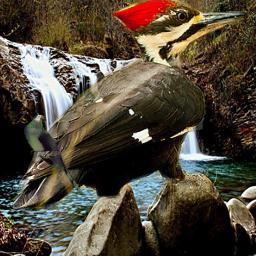Cuckoo: (24, 114, 87, 195)
Woodpecker: (13, 0, 255, 212)
